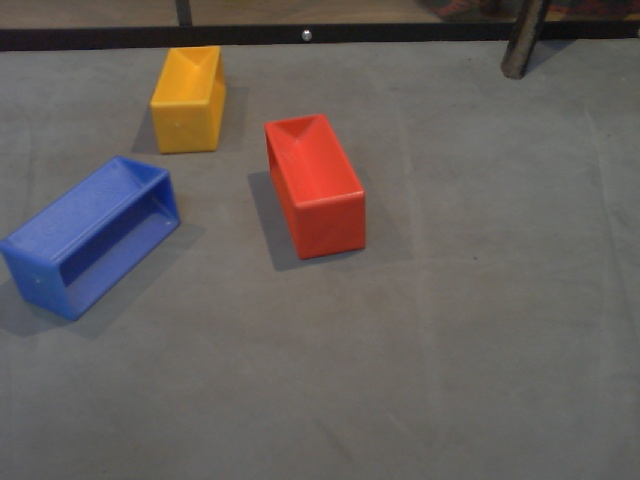BlueSample: (4, 153, 184, 323)
RedSample: (260, 112, 368, 268)
YellowSample: (148, 43, 230, 160)
